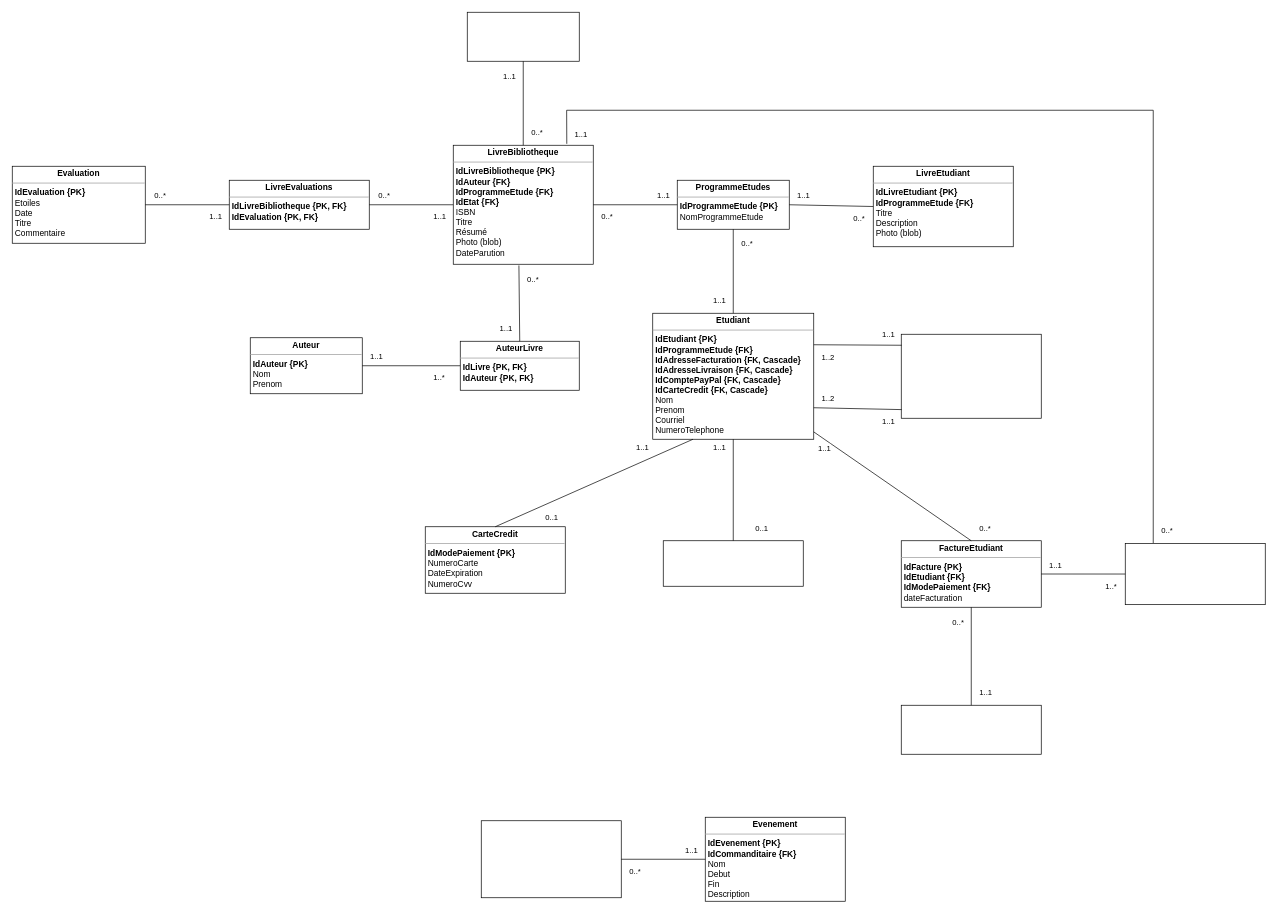
Some shapes in this 1278 by 914 pixel diagram are drawn without their labels. The centre of each missing label's shape, as x and y in pixels:
Adresse IdAdresse {PK} Ville NuméroCivique App Rue CodePostal: the point at 971,376
CommandesEtudiant IdFacture {PK} IdLivre {FK} Quantite: the point at 1195,574
Commanditaire IdCommandaitaire {PK} Nom Courriel Url Message: the point at 551,859
ComptePayPal IdModePaiement {PK} Courriel: the point at 733,563
EtatLivre IdEtat {PK} NomEtat: the point at 523,36
TypePaiement IdTypePaiement {PK} NomTypePaiement: the point at 971,729
